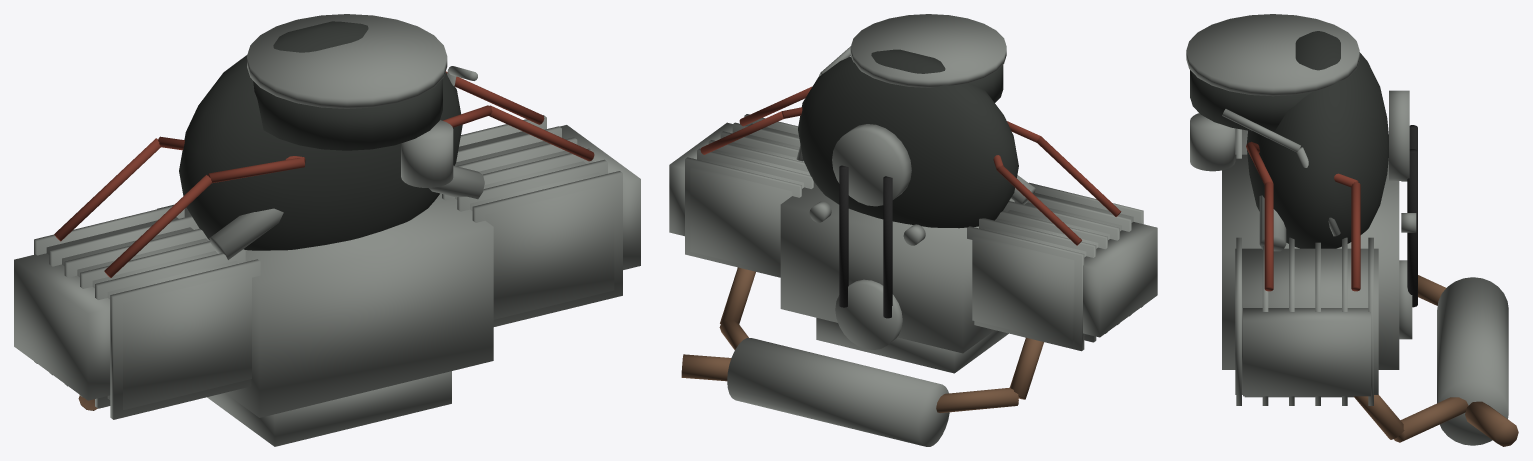
File: STAGE2_PART_012_AirCooledRearEngine.glb
The picture shows the model from 3 angles, left to right: view 1: azimuth 30°, elevation 25°; view 2: azimuth 150°, elevation 25°; view 3: azimuth 270°, elevation 25°; orthographic projection. The views are drawn at different scales.
Parts seen in each view (by area): view 1: ENGINE_Crankcase, ENGINE_FanShroud, ENGINE_Head_L, ENGINE_Head_R, ENGINE_AirFilterLid, ENGINE_ValveCover_L, ENGINE_AirFilterHousing, ENGINE_Sump, ENGINE_CoolingFin_L_05, ENGINE_CoolingFin_R_05, ENGINE_IntakeManifold, ENGINE_Distributor (+15 smaller); view 2: ENGINE_FanShroud, ENGINE_Crankcase, ENGINE_Muffler, ENGINE_Head_L, ENGINE_Head_R, ENGINE_AirFilterLid, ENGINE_ValveCover_L, ENGINE_FanPulley, ENGINE_CrankPulley, ENGINE_Sump, ENGINE_ExhaustHeader_L, ENGINE_CoolingFin_L_00 (+20 smaller); view 3: ENGINE_FanShroud, ENGINE_ValveCover_R, ENGINE_AirFilterLid, ENGINE_Muffler, ENGINE_Crankcase, ENGINE_Head_R, ENGINE_AirFilterHousing, ENGINE_ExhaustHeader_R, ENGINE_Distributor, ENGINE_FanPulley, ENGINE_PlugWire_R_1, ENGINE_BeltRun_R (+12 smaller).
Boxes of the visible parts, x1,y1,x2,y2 form: ENGINE_Crankcase: (157, 193, 493, 417); ENGINE_FanShroud: (179, 21, 462, 250); ENGINE_Head_L: (46, 217, 251, 409); ENGINE_Head_R: (455, 131, 614, 319); ENGINE_AirFilterLid: (247, 14, 447, 108); ENGINE_ValveCover_L: (14, 253, 110, 400); ENGINE_AirFilterHousing: (253, 79, 442, 150); ENGINE_Sump: (207, 371, 451, 446); ENGINE_CoolingFin_L_05: (110, 259, 260, 419); ENGINE_CoolingFin_R_05: (472, 171, 622, 326); ENGINE_IntakeManifold: (209, 165, 484, 259); ENGINE_Distributor: (401, 120, 453, 187); ENGINE_FanShroud: (798, 49, 1018, 228); ENGINE_Crankcase: (780, 182, 1014, 353); ENGINE_Muffler: (727, 338, 949, 446); ENGINE_Head_L: (972, 193, 1133, 344); ENGINE_Head_R: (690, 123, 810, 273); ENGINE_AirFilterLid: (850, 14, 1006, 87); ENGINE_ValveCover_L: (1083, 222, 1157, 337); ENGINE_FanPulley: (832, 124, 911, 206); ENGINE_CrankPulley: (835, 279, 902, 349); ENGINE_Sump: (816, 318, 1008, 373); ENGINE_ExhaustHeader_L: (936, 337, 1043, 413); ENGINE_CoolingFin_L_00: (967, 226, 1084, 351); ENGINE_FanShroud: (1247, 31, 1388, 248); ENGINE_ValveCover_R: (1243, 308, 1370, 396); ENGINE_AirFilterLid: (1186, 14, 1359, 96); ENGINE_Muffler: (1437, 277, 1508, 445); ENGINE_Crankcase: (1222, 154, 1399, 369); ENGINE_Head_R: (1235, 248, 1378, 394); ENGINE_AirFilterHousing: (1190, 70, 1311, 131); ENGINE_ExhaustHeader_R: (1353, 395, 1468, 442); ENGINE_Distributor: (1190, 113, 1235, 171); ENGINE_FanPulley: (1389, 90, 1409, 180); ENGINE_PlugWire_R_1: (1246, 142, 1273, 291); ENGINE_BeltRun_R: (1407, 149, 1417, 307).
Size of the model in its own units: 1.05 by 0.738 by 0.6345.
